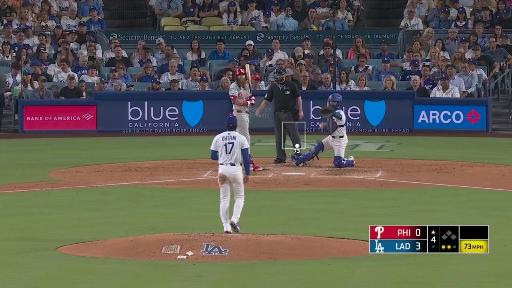pitcher: (211, 116, 251, 234)
